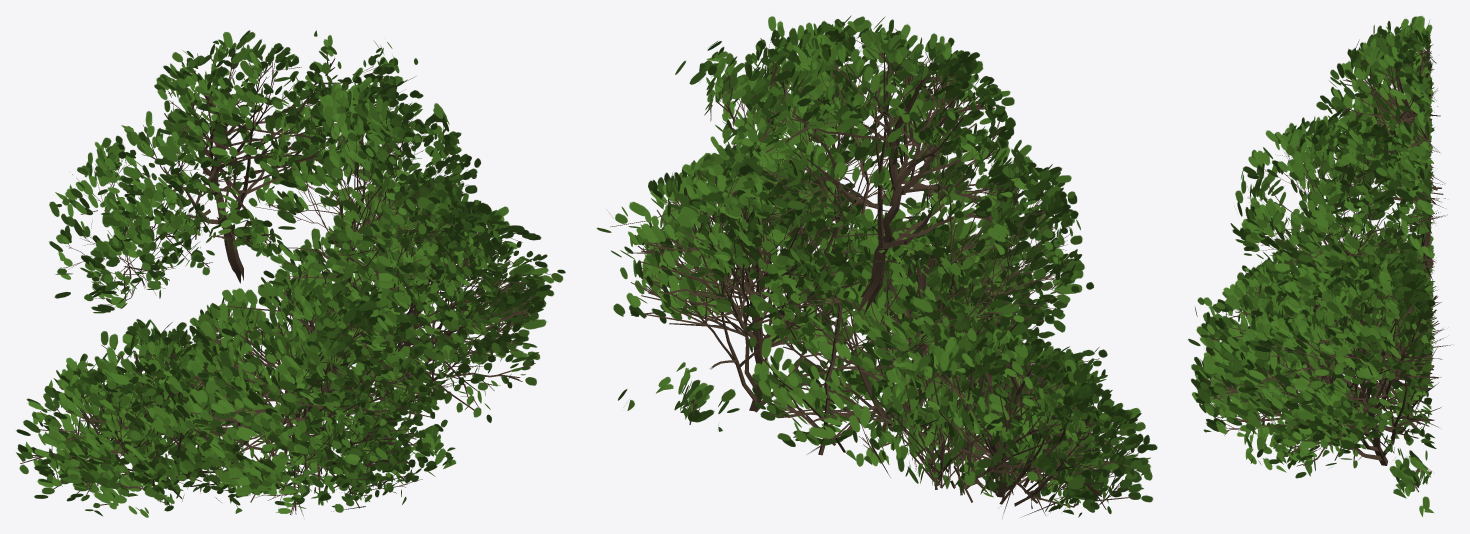
3 views of the same model, side by side, from view 1: azimuth 30°, elevation 25°; view 2: azimuth 150°, elevation 25°; view 3: azimuth 270°, elevation 25° (orthographic). The views are drawn at different scales.
Parts seen in each view (by area): view 1: oak 01.001_trunk_Mat.001_0.500; view 2: oak 01.001_trunk_Mat.001_0.500; view 3: oak 01.001_trunk_Mat.001_0.500.
Boxes of the visible parts, bbox=[...] form: oak 01.001_trunk_Mat.001_0.500: bbox=[16, 30, 565, 517]; oak 01.001_trunk_Mat.001_0.500: bbox=[596, 15, 1157, 517]; oak 01.001_trunk_Mat.001_0.500: bbox=[1188, 16, 1452, 516].
Size of the model in its own units: 5.24 by 4.28 by 2.63.
Materials: 2 (1 with a texture image).
